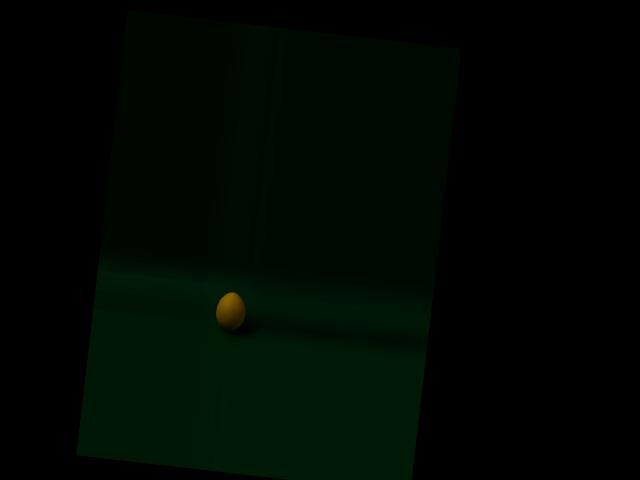egg: (213, 290, 246, 332)
